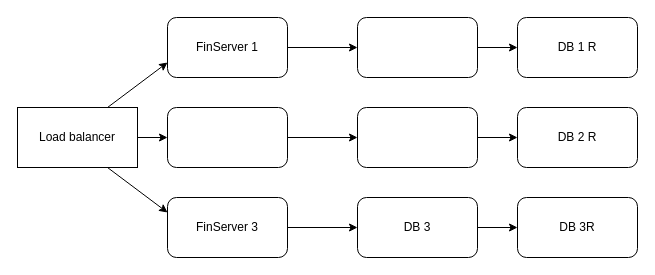
The diagram is 655 pixels wide and 275 high, and some of its shapes have lost their labels. Each missing label, with the box of its shape:
DB 1: (356, 16, 478, 78)
DB 2: (356, 106, 478, 168)
FinServer 2: (166, 106, 288, 168)
